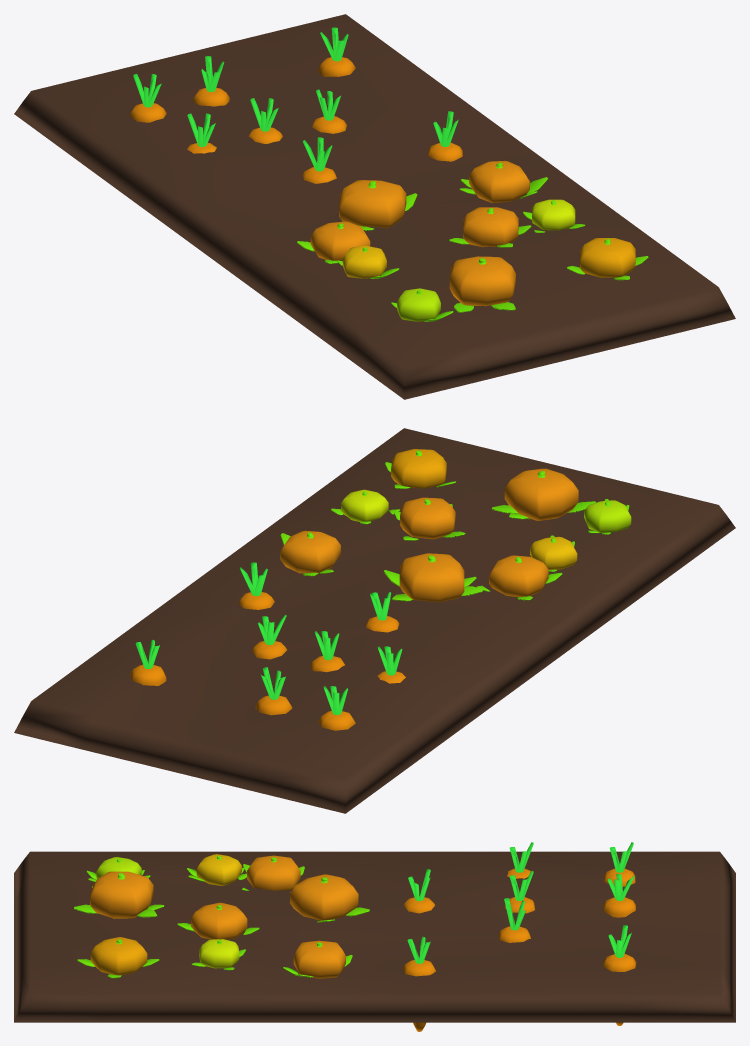
The model's file is Farm.fbx.
3 renders of one model, top to bottom at view 1: azimuth 30°, elevation 25°; view 2: azimuth 150°, elevation 25°; view 3: azimuth 270°, elevation 25°, orthographic. The views are drawn at different scales.
Visible parts, largest first — view 1: Cube; view 2: Cube; view 3: Cube.
Boxes of the visible parts, x1,y1,x2,y2 form: Cube: [14, 14, 735, 399]; Cube: [14, 428, 735, 813]; Cube: [14, 842, 735, 1031].
Size of the model in its own units: 1116 by 351 by 2276.
